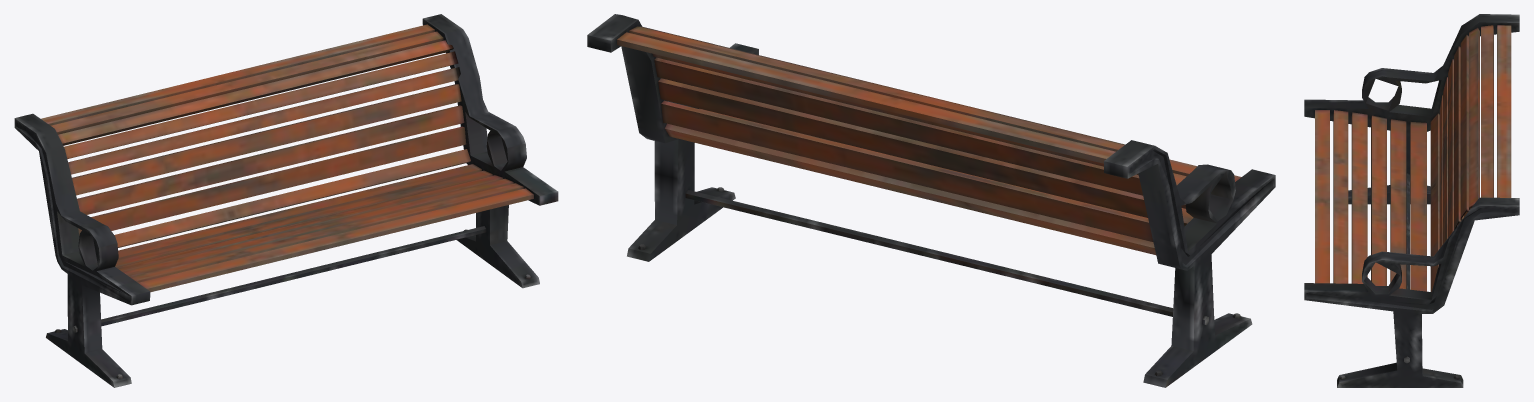
The model's file is bench-park.lod0.glb.
3 views of the same model, side by side, from view 1: azimuth 30°, elevation 25°; view 2: azimuth 150°, elevation 25°; view 3: azimuth 270°, elevation 25° (orthographic). The views are drawn at different scales.
Visible parts, largest first — view 1: Bench_Bench_0; view 2: Bench_Bench_0; view 3: Bench_Bench_0.
Boxes of the visible parts, x1,y1,x2,y2 form: Bench_Bench_0: [14, 14, 558, 387]; Bench_Bench_0: [587, 14, 1275, 387]; Bench_Bench_0: [1304, 14, 1519, 387].
Bounding box in the file's own units: 1.8 × 0.792 × 0.8489.
1 material, 1 textured.
